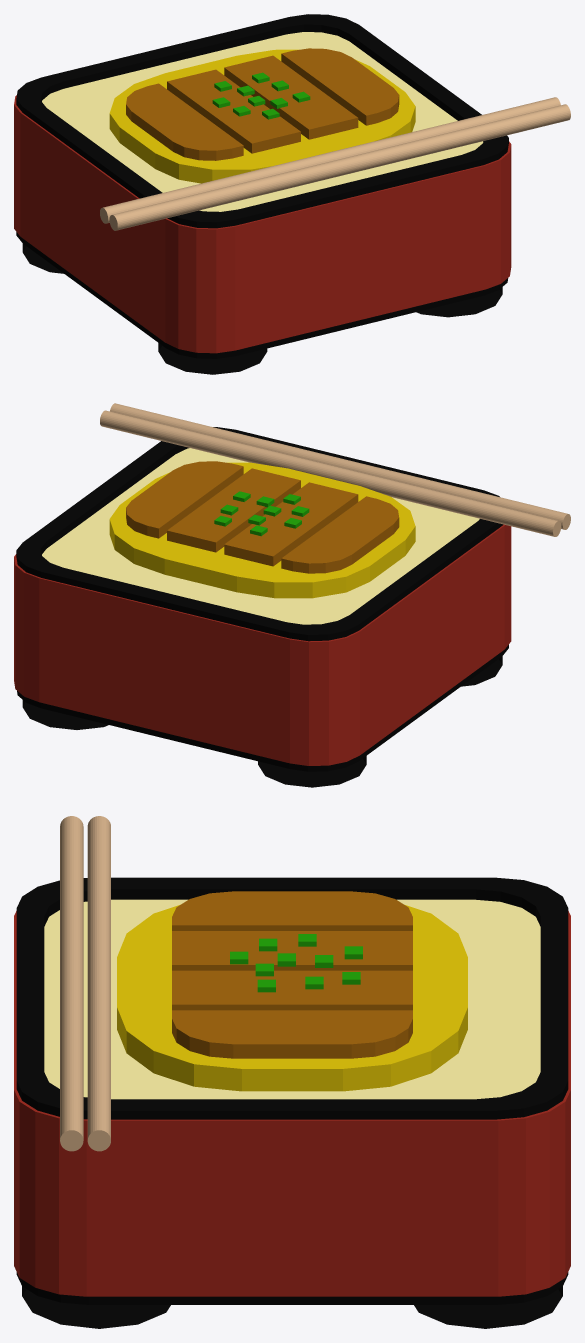
Rendered from cook.glb.
3 views of the same model, one above another, from view 1: azimuth 30°, elevation 25°; view 2: azimuth 150°, elevation 25°; view 3: azimuth 270°, elevation 25° (orthographic). The views are drawn at different scales.
Parts seen in each view (by area): view 1: Cube.007, Cube, Cube.006, Cube.005, Cylinder.001, Cube.001, Cube.004, Cube.003, Cube.002, Cylinder, Circle.001, Circle; view 2: Cube.007, Cube, Cube.006, Cube.005, Cylinder, Cube.001, Cube.004, Cube.002, Cube.003, Cylinder.001, Circle.003, Circle.002; view 3: Cube.007, Cube, Cube.006, Cube.005, Cube.004, Cube.003, Cube.001, Cube.002, Cylinder, Cylinder.001, Circle, Circle.002.
Part boxes in pixels (x1,y1,x2,y2): Cube.007: (14, 95, 511, 353); Cube: (16, 14, 508, 358); Cube.006: (42, 32, 483, 211); Cube.005: (109, 49, 415, 183); Cylinder.001: (109, 104, 570, 230); Cube.001: (126, 83, 243, 160); Cube.004: (281, 48, 399, 125); Cube.003: (224, 55, 358, 139); Cube.002: (167, 69, 300, 153); Cylinder: (100, 97, 560, 223); Circle.001: (158, 343, 267, 374); Circle: (416, 287, 502, 317); Cube.007: (14, 524, 511, 765); Cube: (16, 427, 508, 771); Cube.006: (42, 448, 479, 624); Cube.005: (109, 462, 415, 598); Cylinder: (100, 410, 561, 536); Cube.001: (281, 496, 399, 573); Cube.004: (126, 461, 243, 538); Cube.002: (224, 482, 358, 566); Cube.003: (167, 468, 300, 552); Cylinder.001: (110, 403, 570, 529); Circle.003: (258, 756, 366, 787); Circle.002: (22, 700, 108, 729); Cube.007: (14, 911, 570, 1296); Cube: (16, 877, 568, 1304); Cube.006: (44, 899, 540, 1099); Cube.005: (117, 904, 467, 1091); Cube.004: (172, 1010, 412, 1058); Cube.003: (172, 970, 412, 1010); Cube.001: (172, 891, 412, 930); Cube.002: (172, 931, 412, 970); Cylinder: (87, 816, 110, 1151); Cylinder.001: (60, 816, 83, 1151); Circle: (22, 1286, 170, 1328); Circle.002: (414, 1286, 562, 1328).
Bounding box in the file's own units: 2.69 × 1.01 × 2.02.
